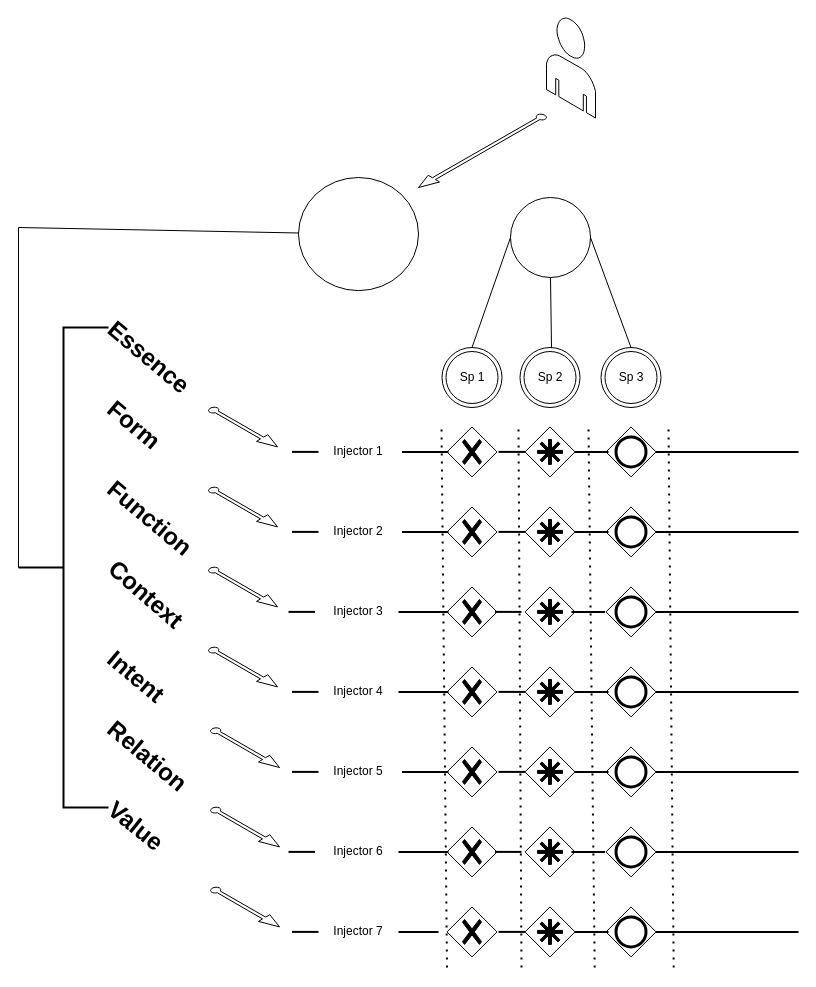
Some shapes in this 816 by 987 pixel diagram are drawn without their labels. The shapes that lost their labels are listed below. From the top down, each one's box as (x1, y1, x2, y2) in pixels, then its label:
(298, 176, 418, 291): Input LLM
(510, 196, 590, 278): Input Phase Prime
